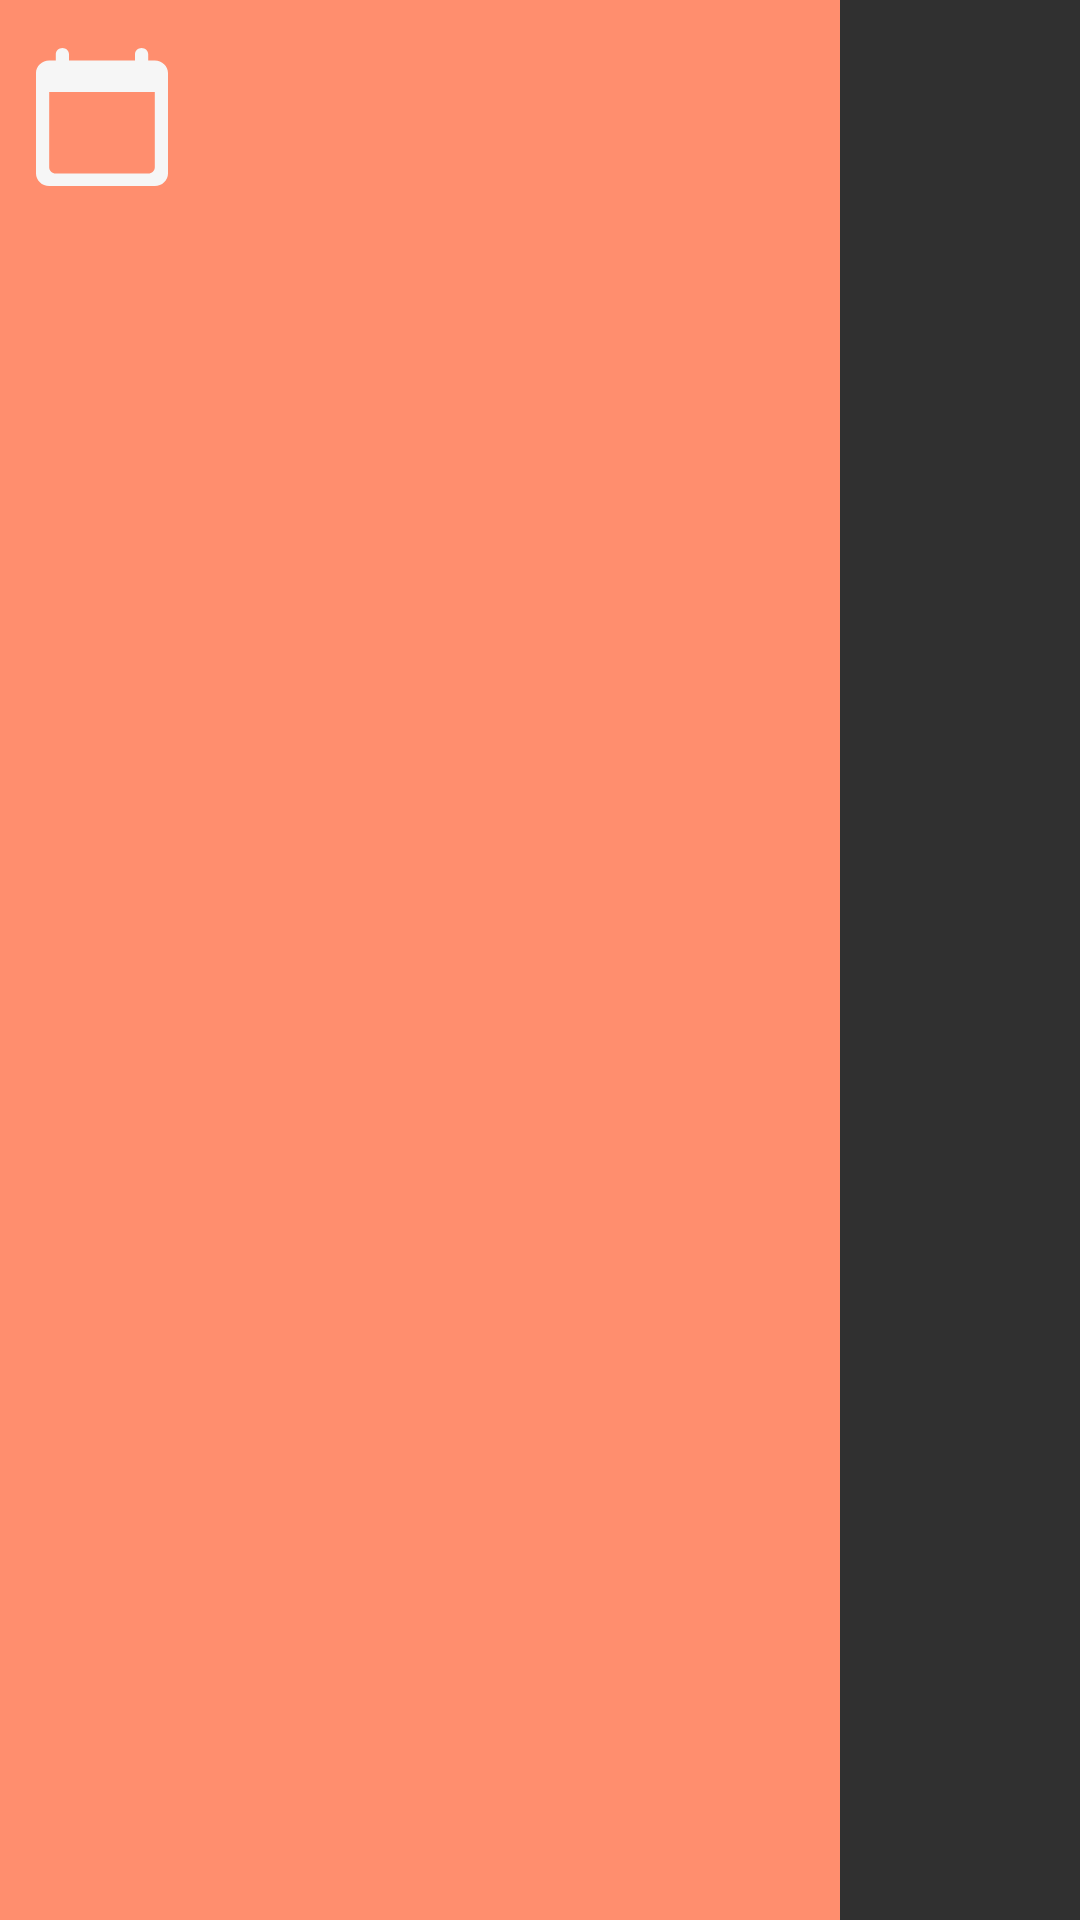

Screen size 1080 × 1920. Icon name, then its box in pixels as (x1, y1, x2, y2):
calendar today: (36, 48, 168, 186)
